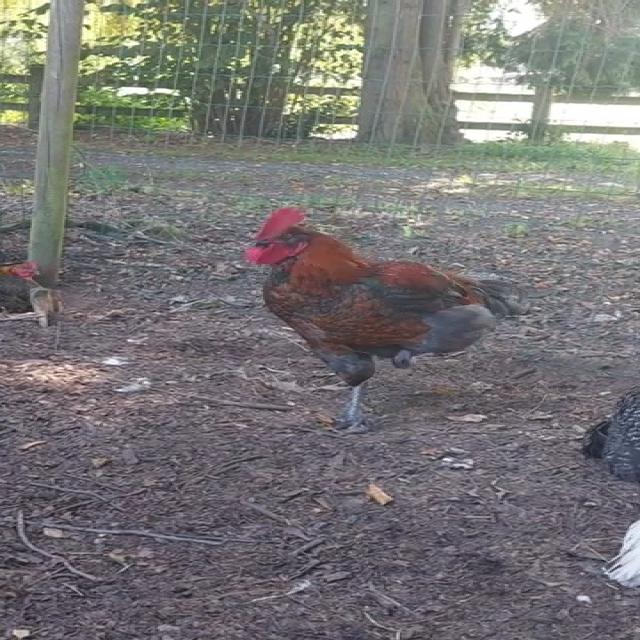leg stretching: (235, 200, 522, 456)
